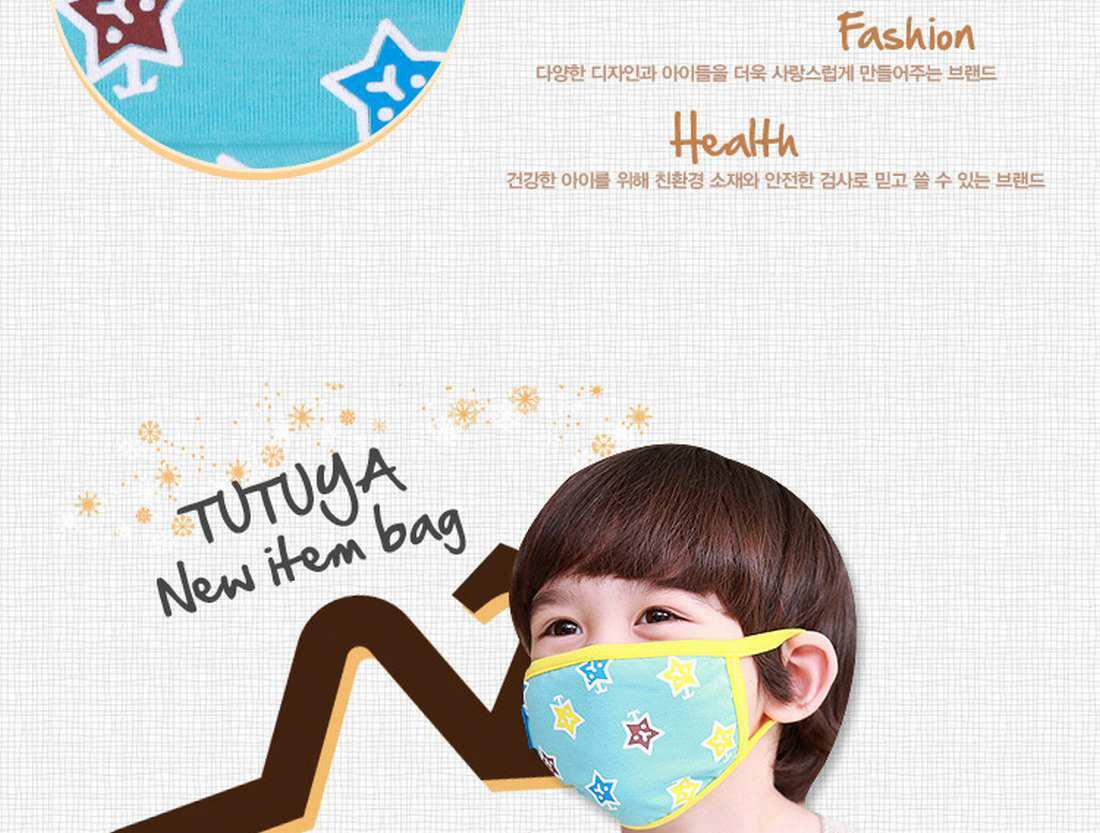OK: (519, 569, 767, 817)
